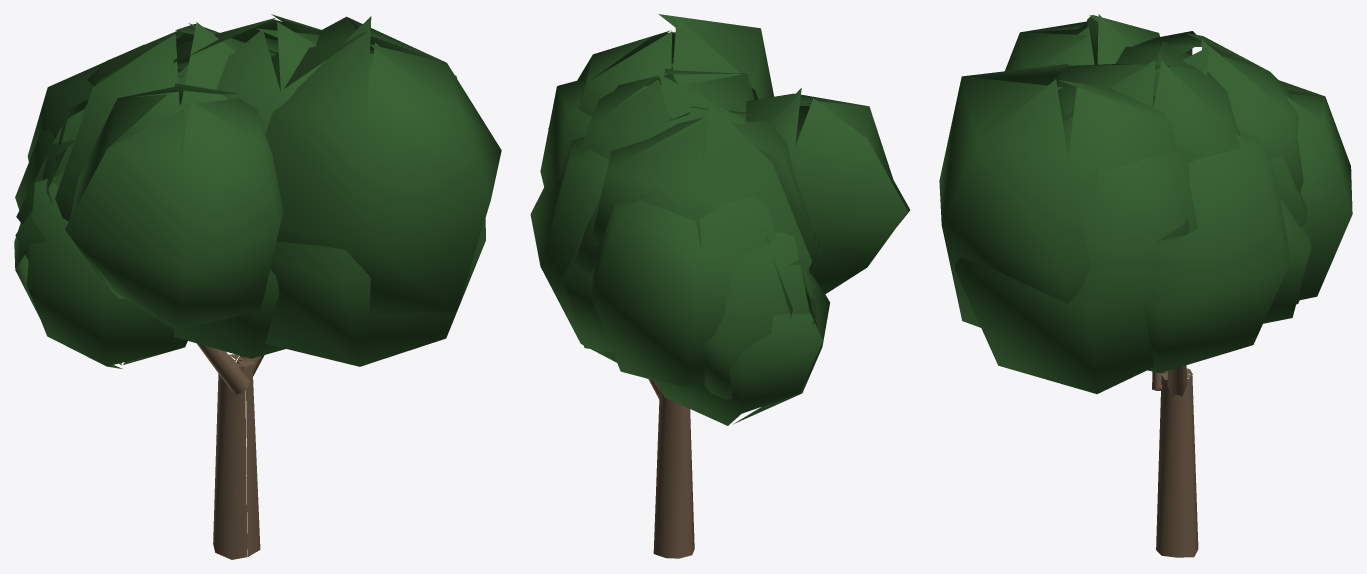
File: tree_ficus.glb
3 renders of one model, left to right at view 1: azimuth 30°, elevation 25°; view 2: azimuth 150°, elevation 25°; view 3: azimuth 270°, elevation 25°, orthographic. The views are drawn at different scales.
Visible parts, largest first — view 1: tree; view 2: tree; view 3: tree.
Boxes of the visible parts, x1,y1,x2,y2 form: tree: (14, 14, 501, 559); tree: (530, 14, 910, 558); tree: (939, 14, 1352, 557).
Size of the model in its own units: 6.18 by 7.71 by 5.53.
